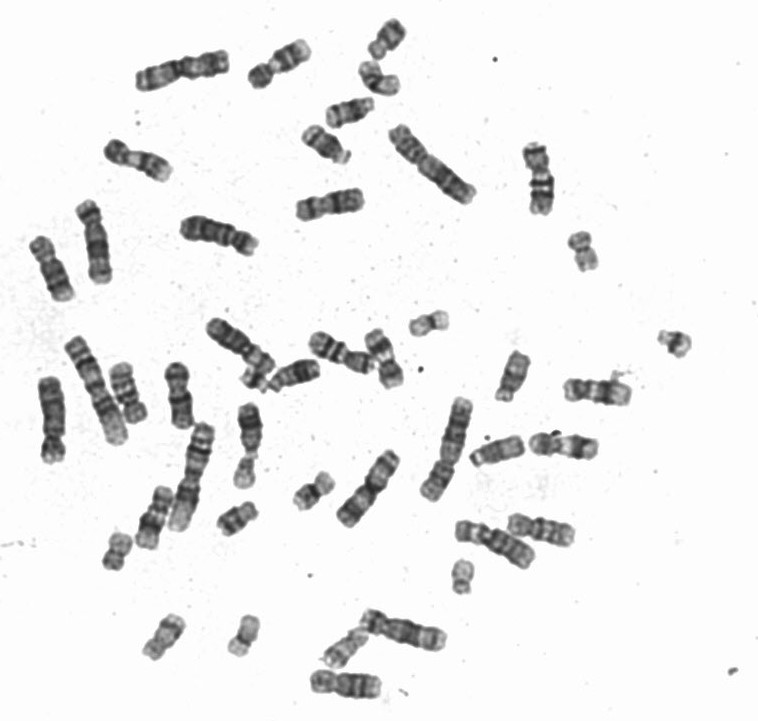chromosomes: (382, 118, 482, 210), (59, 331, 133, 452), (414, 390, 479, 505), (334, 441, 407, 536), (127, 37, 235, 101), (165, 419, 223, 538), (355, 602, 456, 661), (450, 518, 540, 575), (28, 373, 77, 476), (69, 193, 119, 289), (21, 226, 79, 308), (511, 128, 562, 220), (245, 33, 315, 98), (95, 134, 177, 189), (203, 312, 277, 372), (172, 211, 263, 259), (287, 181, 373, 227), (304, 328, 379, 378), (130, 482, 179, 558), (559, 370, 638, 417), (102, 353, 151, 428), (361, 319, 409, 395), (295, 119, 364, 171), (504, 506, 582, 552), (644, 312, 708, 368), (301, 666, 393, 703), (136, 612, 195, 668), (522, 426, 609, 463), (489, 346, 539, 410), (158, 359, 198, 434), (317, 623, 373, 674), (361, 12, 412, 66), (465, 431, 529, 474), (561, 221, 606, 282), (350, 54, 407, 102), (269, 354, 326, 402), (224, 607, 269, 664), (288, 466, 340, 514), (322, 88, 378, 132), (213, 495, 264, 541), (99, 528, 141, 579), (230, 402, 267, 459), (404, 305, 456, 345), (443, 555, 481, 605), (230, 453, 268, 494), (236, 367, 275, 396)
